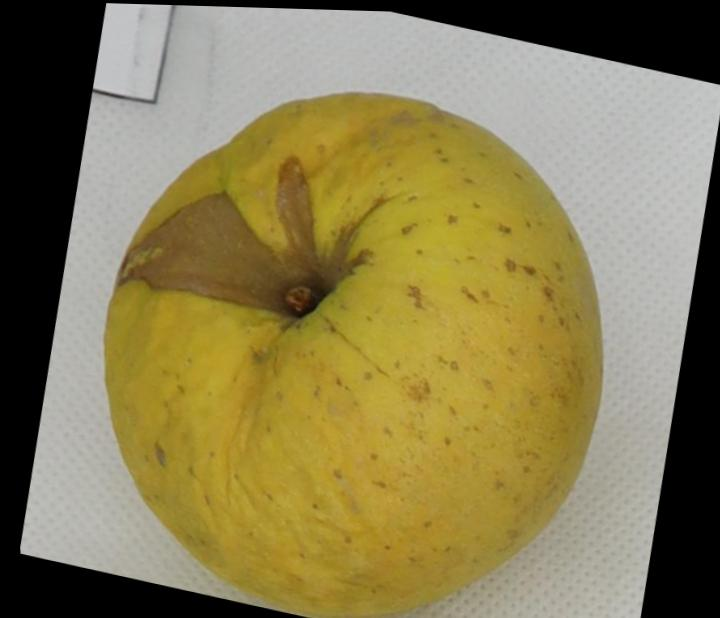apple: (105, 94, 599, 617)
bruise_discoloration: (118, 156, 362, 316)
